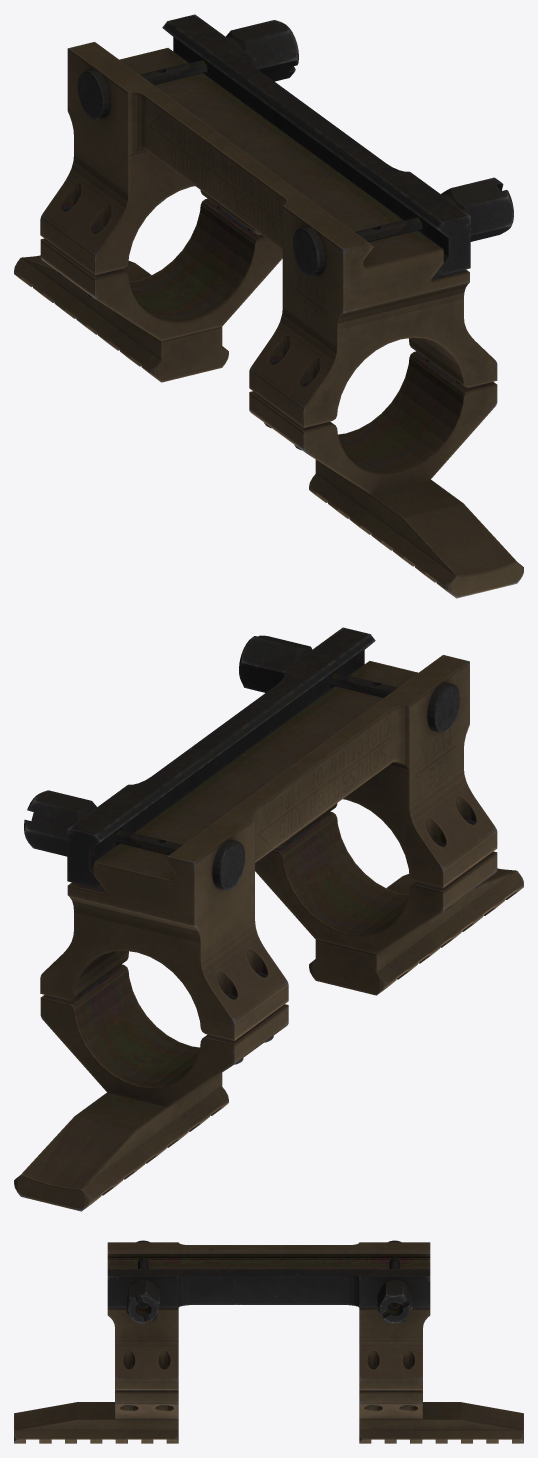
3 renders of one model, top to bottom at view 1: azimuth 30°, elevation 25°; view 2: azimuth 150°, elevation 25°; view 3: azimuth 270°, elevation 25°, orthographic. The views are drawn at different scales.
Parts seen in each view (by area): view 1: TW_61713cc4d8e3106d9806c109_PZ_Import; view 2: TW_61713cc4d8e3106d9806c109_PZ_Import; view 3: TW_61713cc4d8e3106d9806c109_PZ_Import.
Boxes of the visible parts, <box> form: TW_61713cc4d8e3106d9806c109_PZ_Import: <box>14,14,523,598</box>; TW_61713cc4d8e3106d9806c109_PZ_Import: <box>14,627,523,1211</box>; TW_61713cc4d8e3106d9806c109_PZ_Import: <box>14,1240,523,1443</box>.
Size of the model in its own units: 0.0341 by 0.116 by 0.0443.
1 material, 1 textured.
